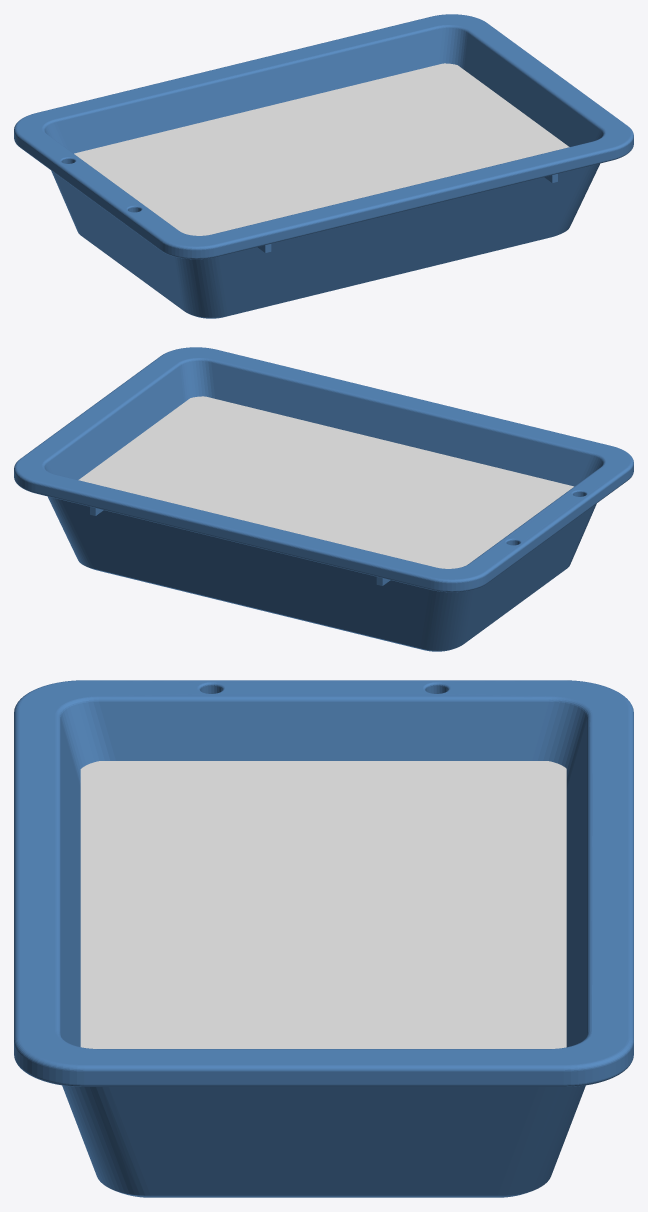
File: Tank.fbx
3 renders of one model, top to bottom at view 1: azimuth 30°, elevation 25°; view 2: azimuth 150°, elevation 25°; view 3: azimuth 270°, elevation 25°, orthographic. The views are drawn at different scales.
Visible parts, largest first — view 1: 縁日の水槽, 水面; view 2: 縁日の水槽, 水面; view 3: 縁日の水槽, 水面.
Boxes of the visible parts, box(x1,y1,x2,y2) form: 縁日の水槽: box(14, 14, 633, 318); 水面: box(74, 63, 569, 235); 縁日の水槽: box(14, 347, 633, 651); 水面: box(78, 396, 573, 568); 縁日の水槽: box(14, 680, 633, 1197); 水面: box(80, 761, 566, 1048).
Bounding box in the file's own units: 1.03 × 0.2114 × 0.6927.
